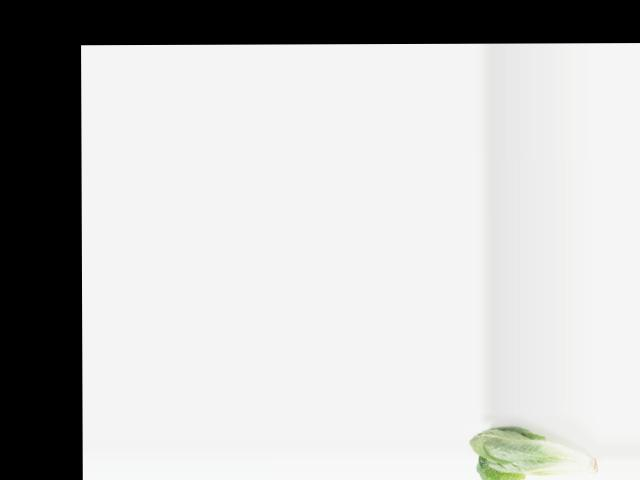lettuce: (468, 422, 604, 480)
